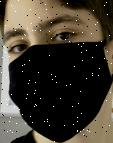with_mask: (2, 1, 113, 143)
